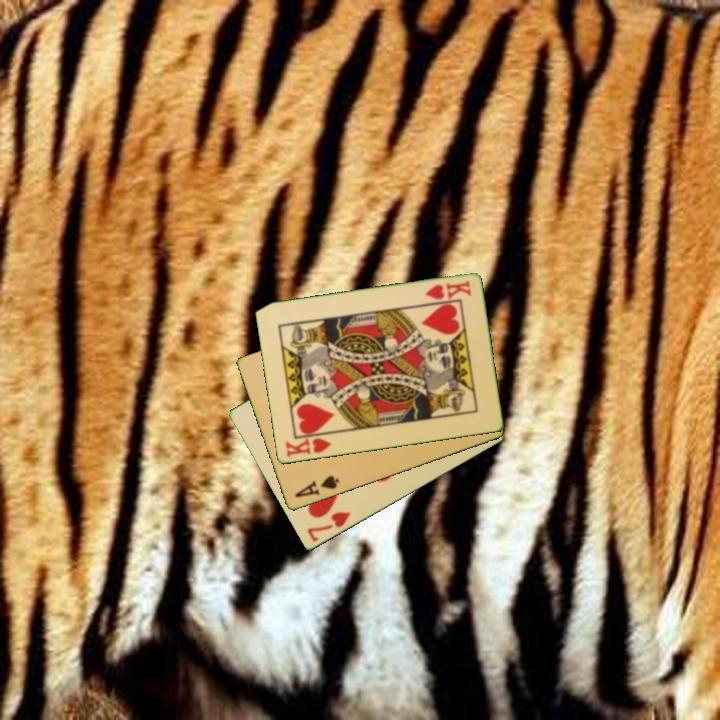7h: (303, 508, 354, 545)
As: (291, 472, 342, 501)
Kh: (282, 430, 336, 461), (421, 277, 474, 303)
